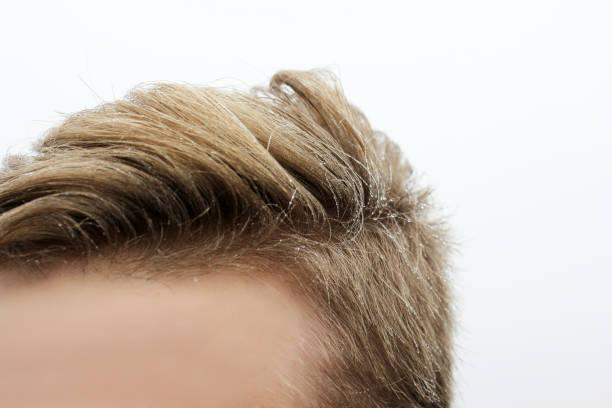dandruff: (372, 194, 397, 213), (89, 235, 106, 258), (245, 172, 267, 186), (50, 219, 68, 229), (294, 242, 305, 257), (274, 234, 286, 246), (286, 198, 296, 208)
dry hair: (314, 188, 378, 304), (362, 326, 421, 408)
